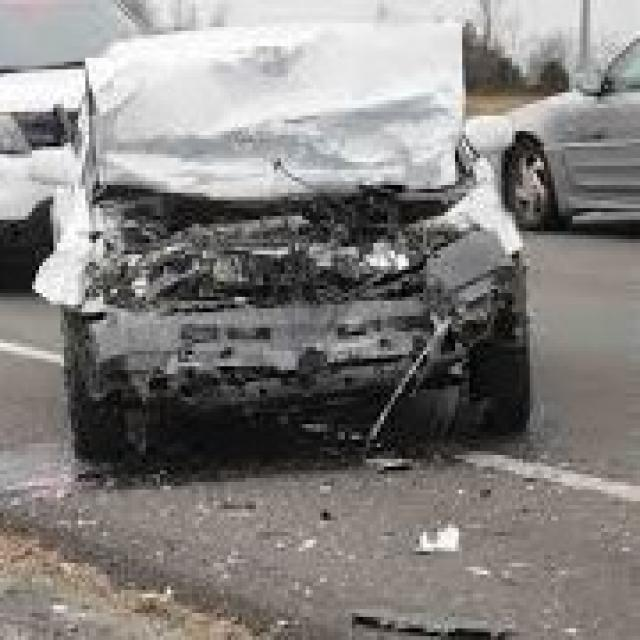severe: (43, 142, 553, 440)
